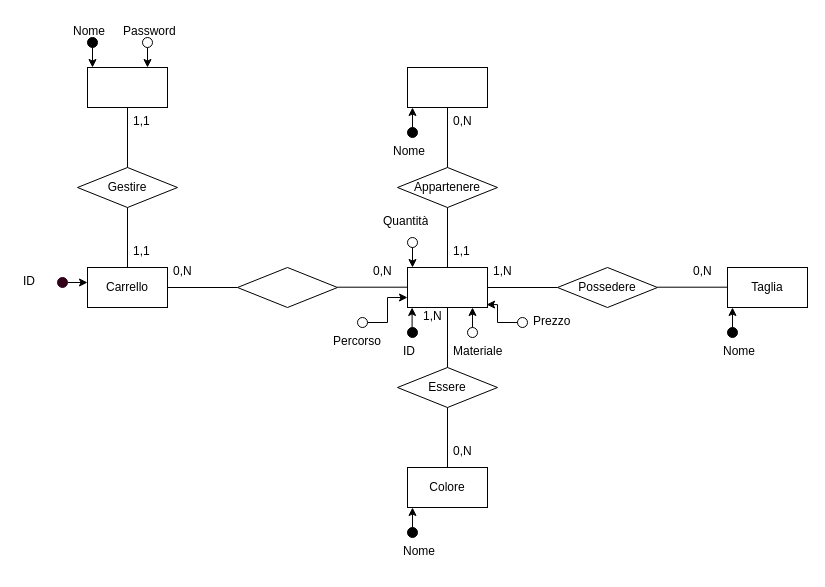
Image size: 825x587. Some labels were removed from this diagram. Each missing label, with the centre of its shape:
Categoria: point 447,87
Contenere: point 287,287
Prodotto: point 447,287
Utente: point 127,87
